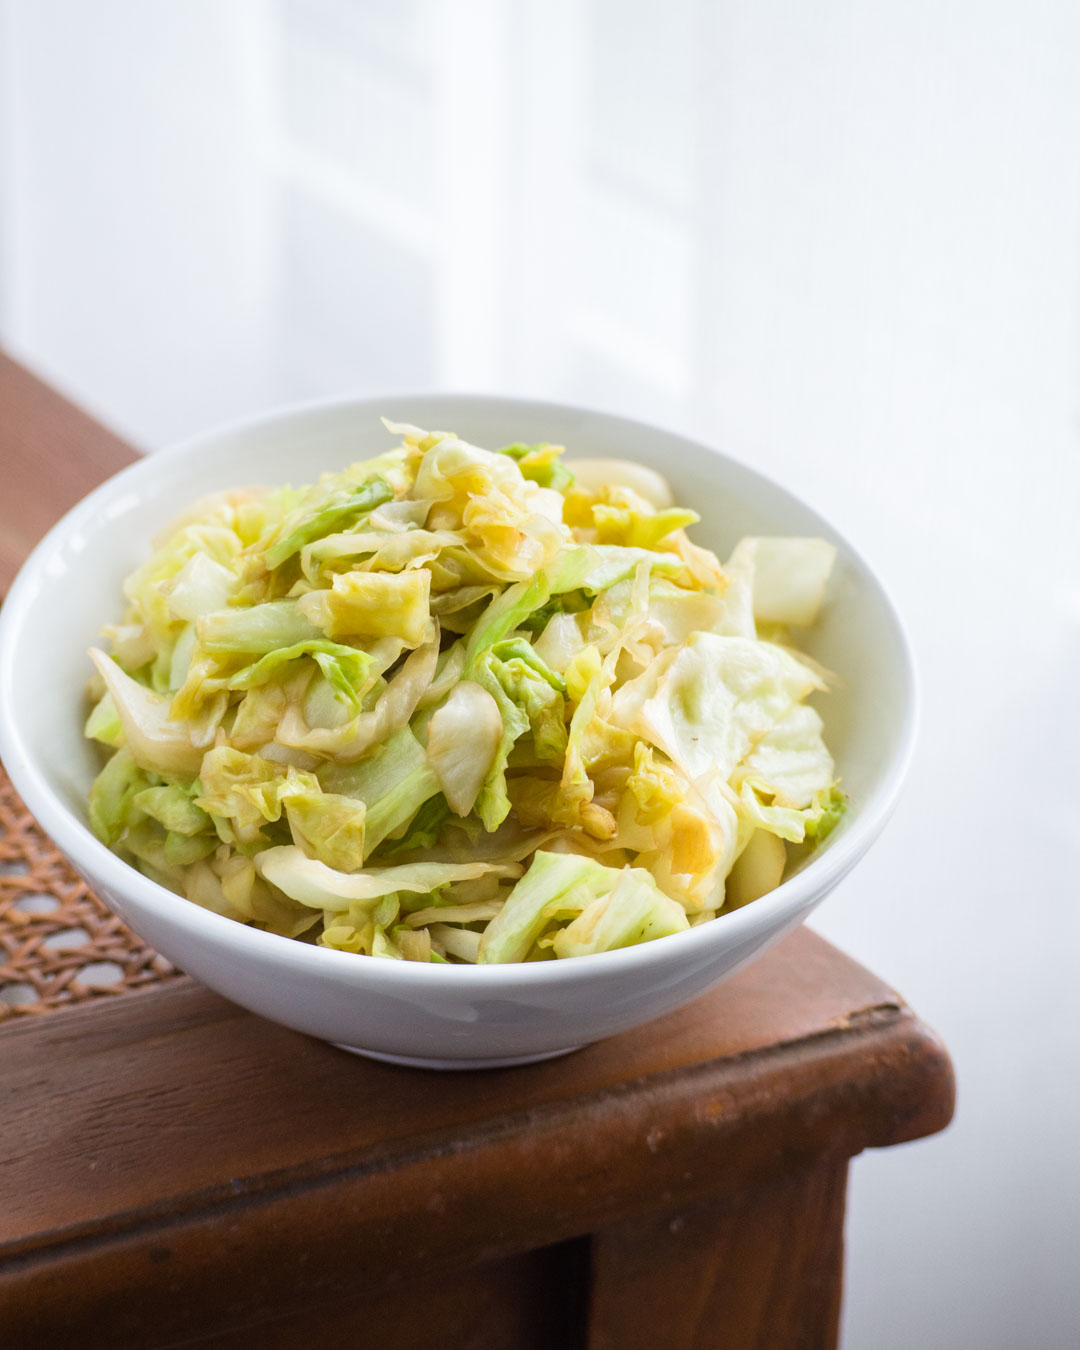chinese_cabbage: (172, 464, 810, 917), (430, 590, 832, 849), (137, 469, 540, 714), (306, 739, 693, 954), (372, 455, 788, 639), (114, 672, 466, 870)
